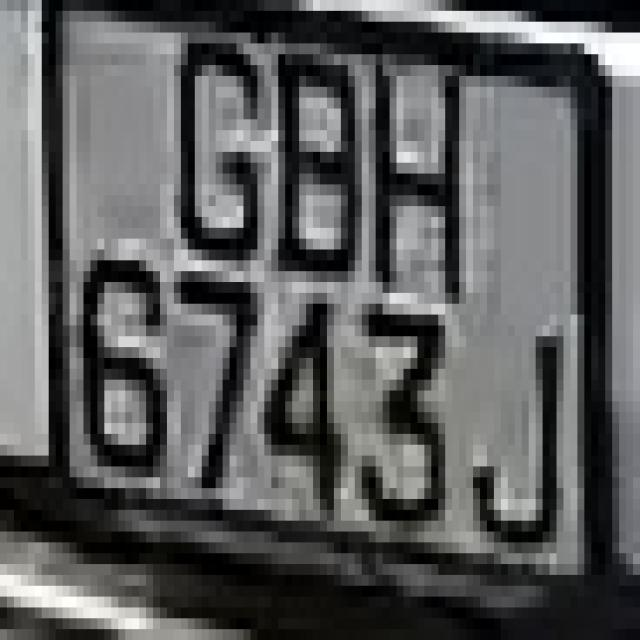3: (348, 272, 452, 542)
4: (257, 249, 355, 532)
6: (76, 184, 174, 521)
7: (167, 206, 264, 510)
B: (264, 11, 369, 314)
G: (153, 11, 271, 293)
H: (362, 11, 473, 293)
J: (459, 249, 598, 575)
